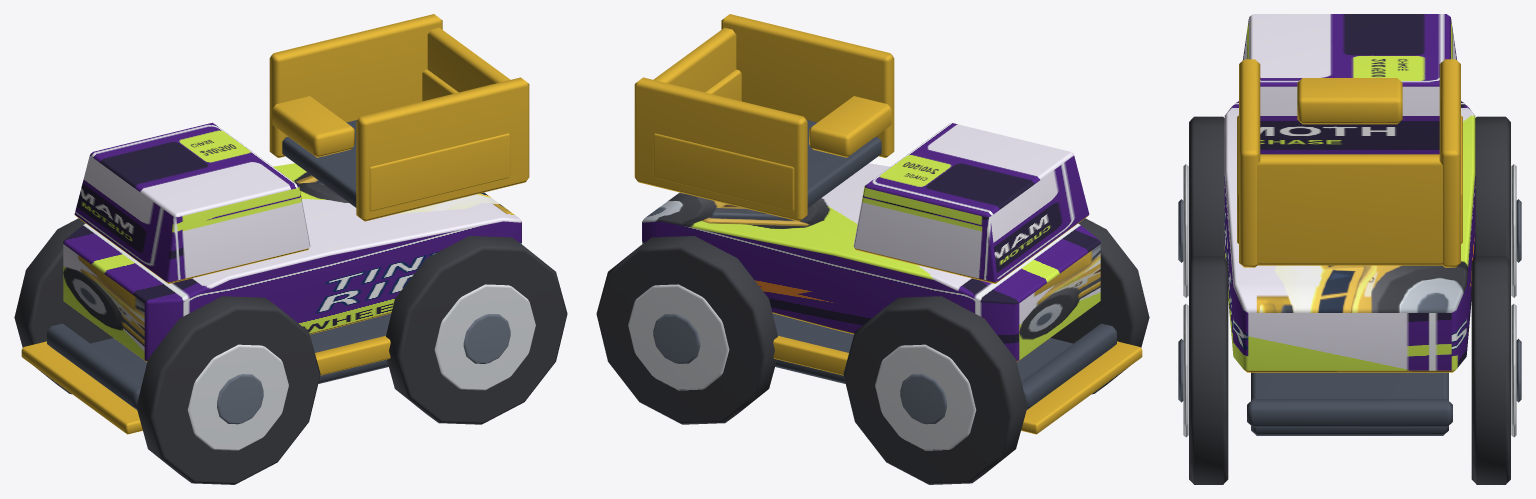
The picture shows the model from 3 angles, left to right: view 1: azimuth 30°, elevation 25°; view 2: azimuth 150°, elevation 25°; view 3: azimuth 270°, elevation 25°; orthographic projection. The views are drawn at different scales.
Parts seen in each view (by area): view 1: BW-04_connected_shell, BW-04_cabin, Tire, Tire.002, raised tipper wall, raised tipper wall.001, cargo side, Rim, Rim.002, Tire.001, custom chin, custom equipment (+8 smaller); view 2: BW-04_connected_shell, BW-04_cabin, Tire.001, Tire.003, raised tipper wall.001, raised tipper wall, cargo side.001, Rim.001, Rim.003, Tire, custom chin, custom equipment (+8 smaller); view 3: BW-04_connected_shell, BW-04_cabin, raised tail gate, Tire.002, Tire.003, underbody, rear bumper, Tire, Tire.001, custom equipment, raised tipper wall, raised tipper wall.001 (+6 smaller).
Boxes of the visible parts, x1=… form: BW-04_connected_shell: x1=63, y1=163, x2=521, y2=361; BW-04_cabin: x1=74, y1=122, x2=310, y2=283; Tire: x1=136, y1=296, x2=320, y2=484; Tire.002: x1=386, y1=236, x2=567, y2=424; raised tipper wall: x1=356, y1=77, x2=529, y2=221; raised tipper wall.001: x1=269, y1=14, x2=442, y2=157; cargo side: x1=369, y1=133, x2=510, y2=211; Rim: x1=187, y1=344, x2=288, y2=450; Rim.002: x1=434, y1=284, x2=535, y2=390; Tire.001: x1=14, y1=218, x2=113, y2=394; custom chin: x1=21, y1=341, x2=142, y2=434; custom equipment: x1=272, y1=96, x2=354, y2=157; BW-04_connected_shell: x1=642, y1=163, x2=1100, y2=361; BW-04_cabin: x1=853, y1=122, x2=1089, y2=283; Tire.001: x1=843, y1=296, x2=1027, y2=484; Tire.003: x1=596, y1=236, x2=777, y2=424; raised tipper wall.001: x1=634, y1=77, x2=807, y2=221; raised tipper wall: x1=721, y1=14, x2=894, y2=157; cargo side.001: x1=653, y1=133, x2=794, y2=211; Rim.001: x1=875, y1=344, x2=976, y2=450; Rim.003: x1=628, y1=284, x2=729, y2=390; Tire: x1=1050, y1=218, x2=1149, y2=394; custom chin: x1=1021, y1=341, x2=1142, y2=434; custom equipment: x1=809, y1=96, x2=891, y2=157; BW-04_connected_shell: x1=1224, y1=101, x2=1475, y2=372; BW-04_cabin: x1=1242, y1=14, x2=1457, y2=154; raised tail gate: x1=1257, y1=154, x2=1442, y2=265; Tire.002: x1=1189, y1=256, x2=1228, y2=484; Tire.003: x1=1471, y1=256, x2=1510, y2=484; underbody: x1=1251, y1=372, x2=1448, y2=435; rear bumper: x1=1247, y1=399, x2=1452, y2=427; Tire: x1=1189, y1=116, x2=1224, y2=260; Tire.001: x1=1475, y1=116, x2=1510, y2=260; custom equipment: x1=1297, y1=78, x2=1402, y2=124; raised tipper wall: x1=1239, y1=59, x2=1260, y2=267; raised tipper wall.001: x1=1439, y1=59, x2=1460, y2=267.
Size of the model in its own units: 378 by 264 by 227.
